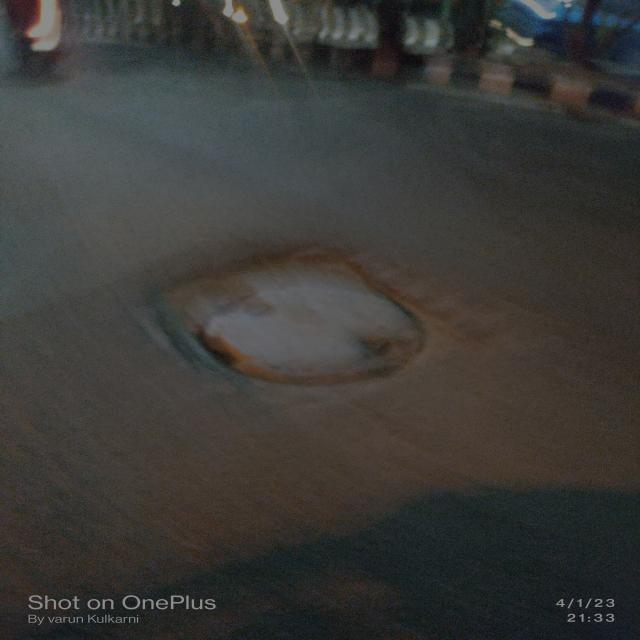manhole: (137, 219, 449, 387)
